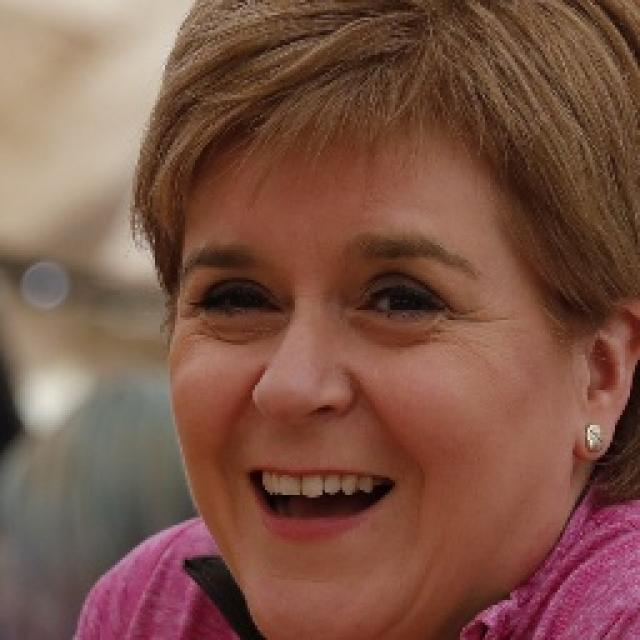earlobe: (574, 397, 622, 460)
eye: (360, 285, 439, 321), (200, 288, 281, 316)
nose: (252, 409, 344, 450)
wholeear: (572, 292, 640, 458)
